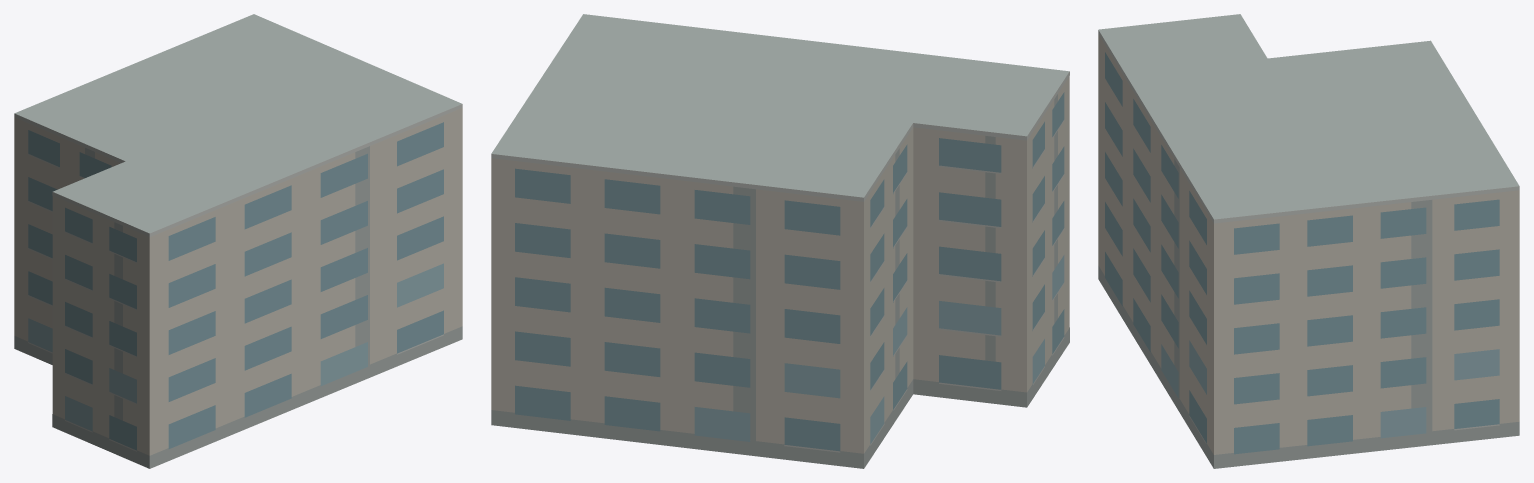
Rendered from residential-208cb0c2-5031-40ef-b3e4-a4c533c1a353.glb.
3 views of the same model, side by side, from view 1: azimuth 30°, elevation 25°; view 2: azimuth 150°, elevation 25°; view 3: azimuth 270°, elevation 25° (orthographic). The views are drawn at different scales.
Parts seen in each view (by area): view 1: residential-208cb0c2-5031-40ef-b3e4-a4c533c1a353.tmp; view 2: residential-208cb0c2-5031-40ef-b3e4-a4c533c1a353.tmp; view 3: residential-208cb0c2-5031-40ef-b3e4-a4c533c1a353.tmp.
Boxes of the visible parts, x1,y1,x2,y2 form: residential-208cb0c2-5031-40ef-b3e4-a4c533c1a353.tmp: (14, 14, 462, 468); residential-208cb0c2-5031-40ef-b3e4-a4c533c1a353.tmp: (491, 14, 1069, 468); residential-208cb0c2-5031-40ef-b3e4-a4c533c1a353.tmp: (1098, 14, 1519, 468).
Bounding box in the file's own units: 26.97 × 15.25 × 23.37.
